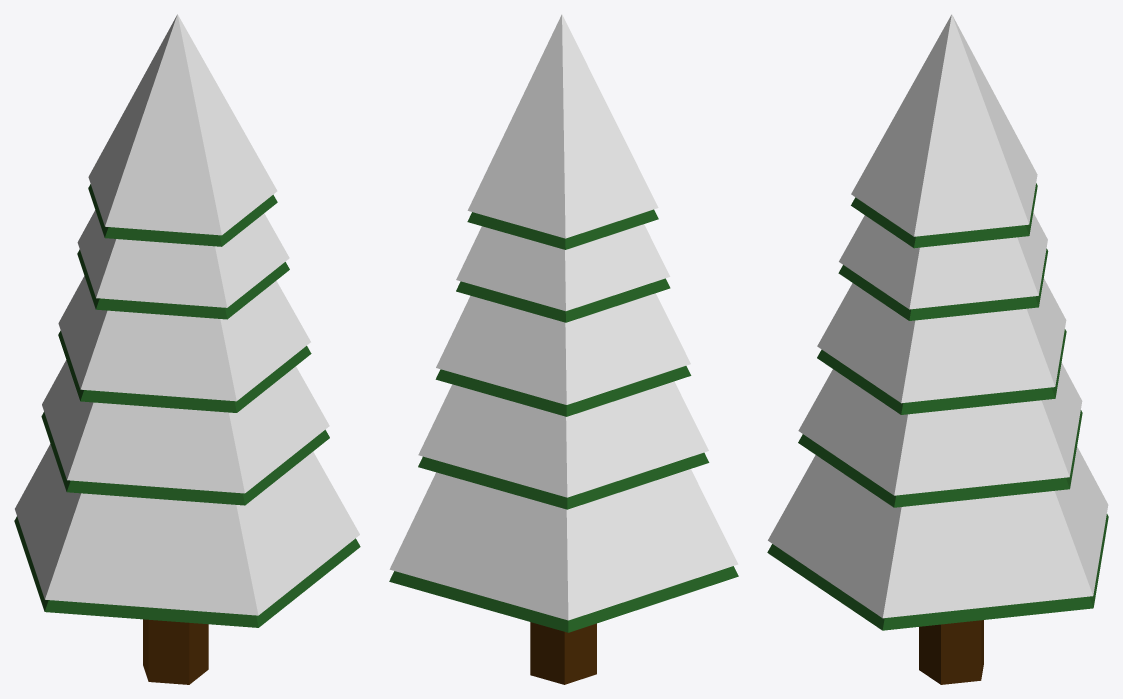
The model's file is chrimstreeW.fbx.
The picture shows the model from 3 angles, left to right: view 1: azimuth 30°, elevation 25°; view 2: azimuth 150°, elevation 25°; view 3: azimuth 270°, elevation 25°; orthographic projection.
Visible parts, largest first — view 1: Cone_4, Cone, Cone_3, Cone_2, Cone_1, Cone_4_2, Cylinder_2, Cone_3_2, Cone_2_2, Cone_1_2, Cone_2_3; view 2: Cone_4, Cone, Cone_3, Cone_2, Cone_1, Cone_4_2, Cone_3_2, Cylinder_2, Cone_2_2, Cone_1_2, Cone_2_3; view 3: Cone_4, Cone, Cone_3, Cone_2, Cone_1, Cone_4_2, Cylinder_2, Cone_3_2, Cone_2_2, Cone_1_2, Cone_2_3.
Boxes of the visible parts, x1,y1,x2,y2 form: Cone_4: (15,444,359,615); Cone: (88,14,277,235); Cone_3: (42,360,329,493); Cone_2: (58,276,310,401); Cone_1: (77,210,289,307); Cone_4_2: (14,516,360,627); Cylinder_2: (143,619,208,684); Cone_3_2: (41,412,329,505); Cone_2_2: (58,330,311,412); Cone_1_2: (77,249,289,319); Cone_2_3: (88,184,277,246); Cone_4: (389,469,738,620); Cone: (467,14,658,238); Cone_3: (418,381,708,497); Cone_2: (436,293,690,404); Cone_1: (456,224,670,311); Cone_4_2: (389,566,738,632); Cone_3_2: (418,452,709,509); Cylinder_2: (530,622,596,684); Cone_2_2: (435,366,691,416); Cone_1_2: (456,278,670,322); Cone_2_3: (467,209,658,249); Cone_4: (768,446,1108,618); Cone: (851,14,1037,236); Cone_3: (798,363,1082,495); Cone_2: (817,278,1066,403); Cone_1: (839,212,1047,309); Cone_4_2: (767,514,1108,630); Cylinder_2: (919,620,983,684); Cone_3_2: (798,410,1082,507); Cone_2_2: (817,329,1066,414); Cone_1_2: (838,248,1048,320); Cone_2_3: (851,183,1037,248).
Size of the model in its own units: 182 by 377 by 177.
